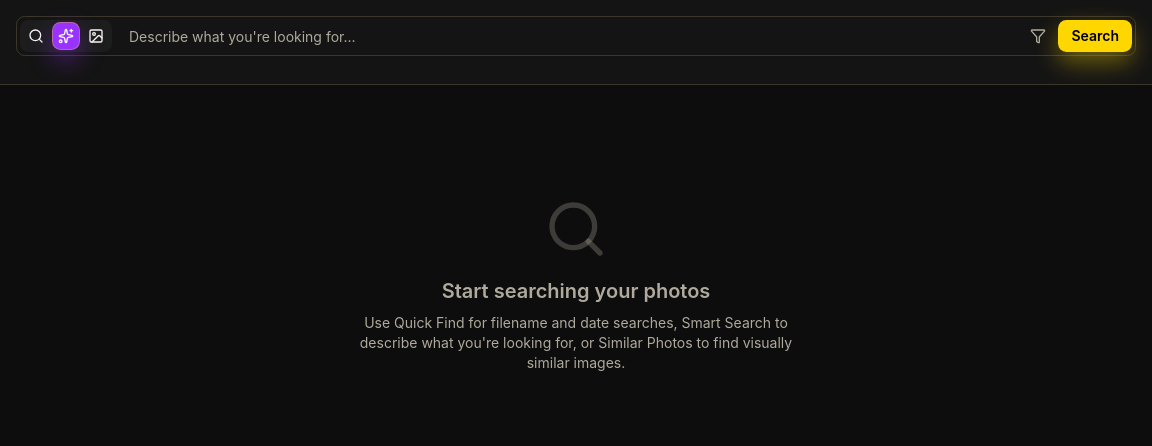
Test: SearchPage Component › clears filters
Open filters
Click the button titled "Advanced filters" at (1038,36), box [1022,20,1054,52]
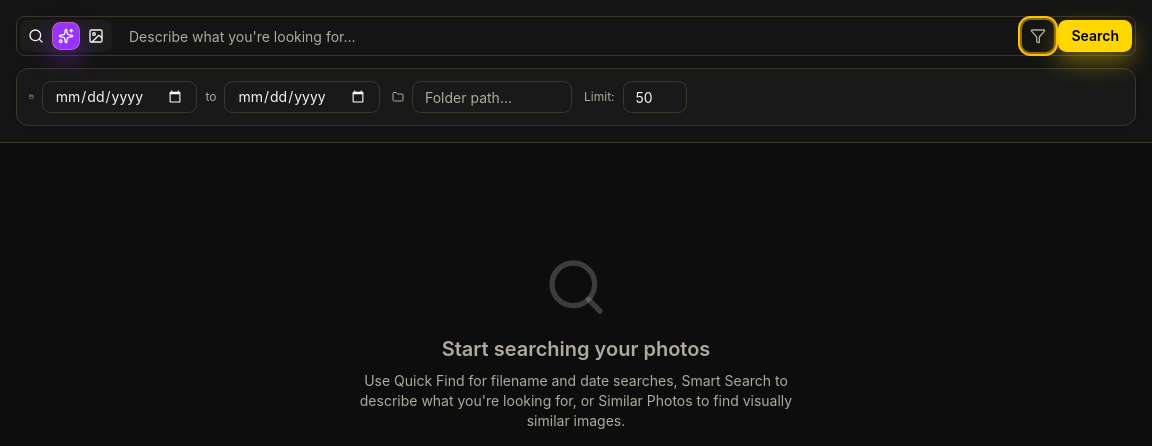
Set a filter
Type "TestFolder" into the field with placeholder "Folder path..." at (492,97), box [412,81,572,113]
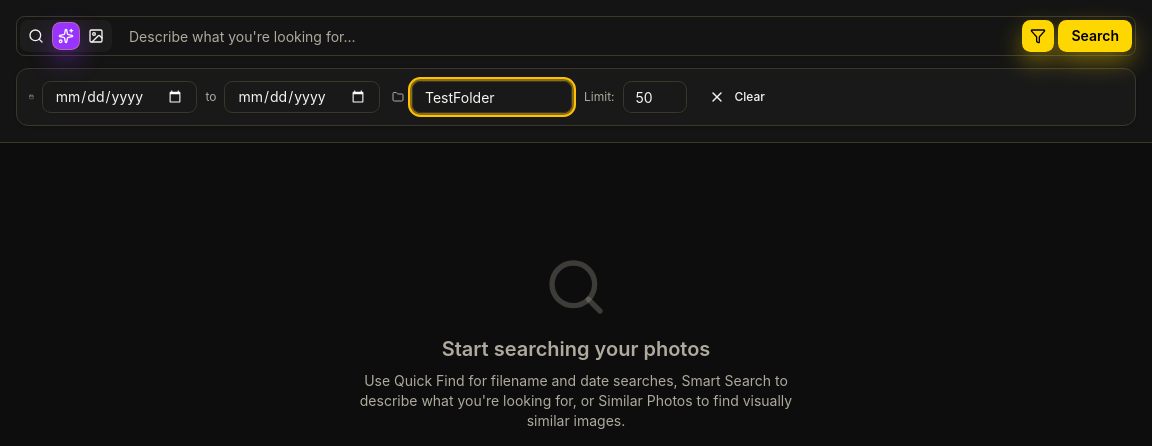
Click clear
Click the button "Clear" at (737,97), box [698,81,775,113]
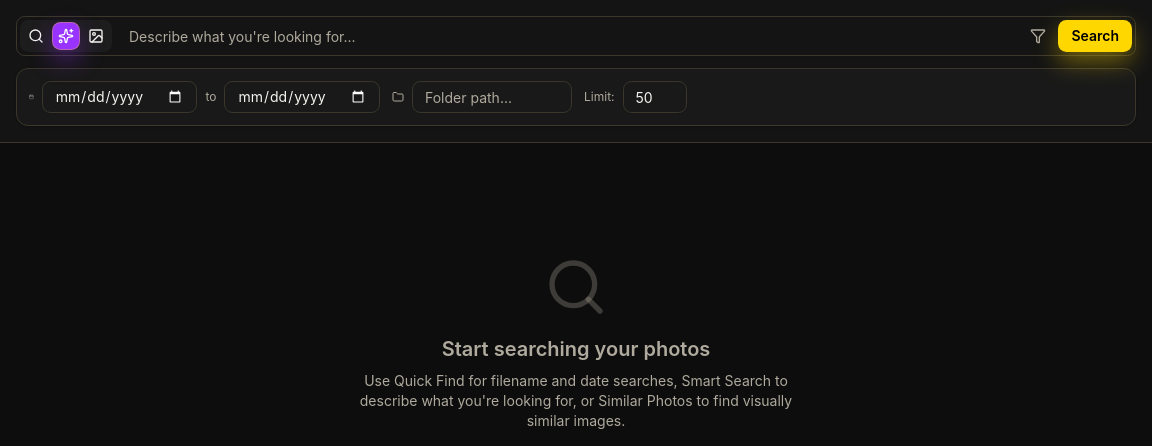
Check: the field with placeholder "Folder path..." is empty, box [412,81,572,113]
